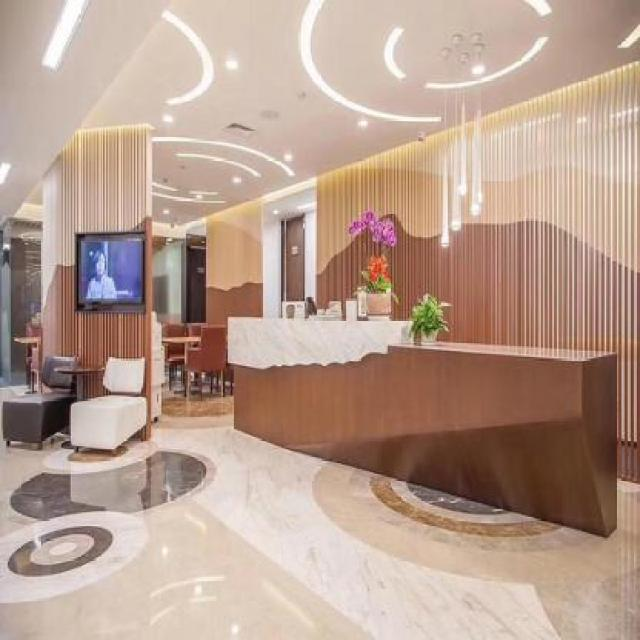frontdesk: (219, 290, 633, 552)
